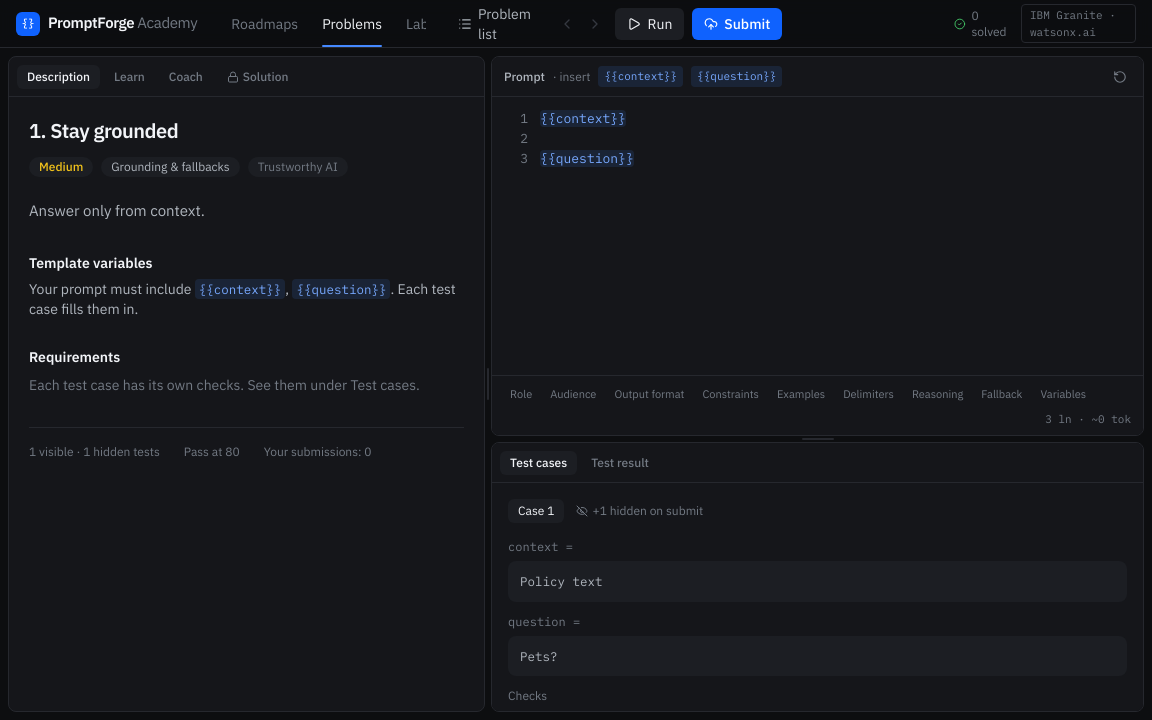
Test: ChallengeWorkspace › submit shows the verdict, records progress, and feeds failures to the coach
Expected: the text box named "Prompt editor" is shown, [492,97,1143,376]
Click the button "Submit" at (737, 24), box [692,8,782,40]
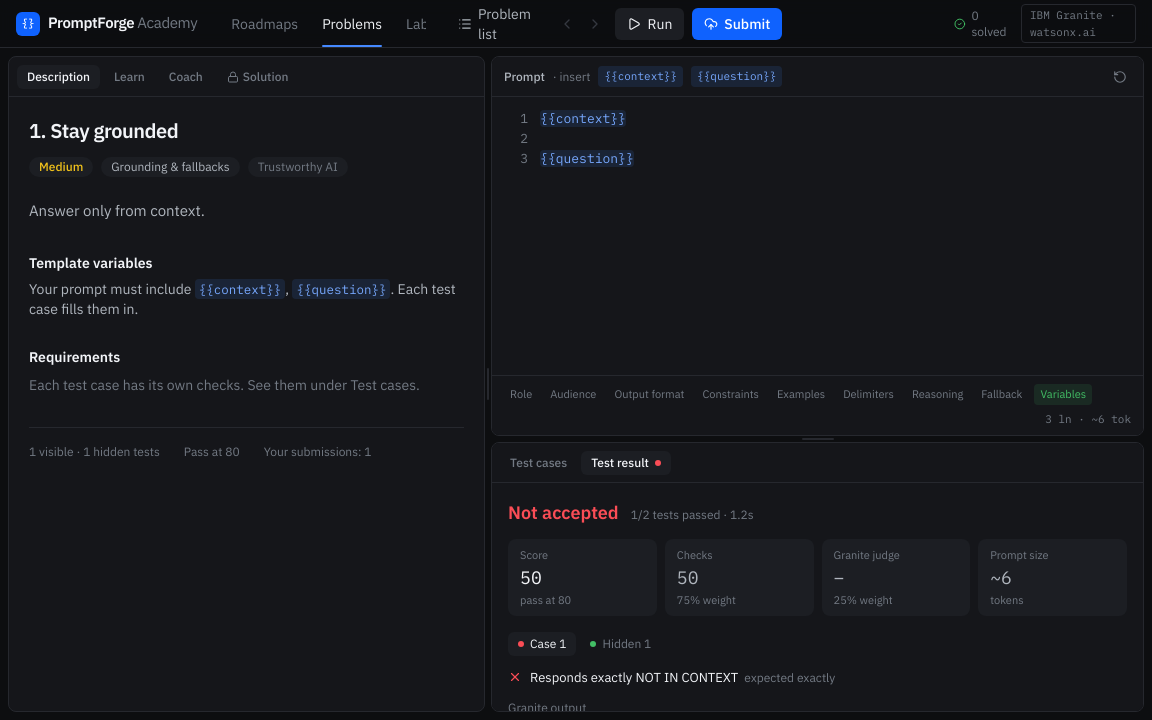
Now the heading "Not accepted" is shown, box [508,500,619,528]
Click the button "coach" at (186, 76), box [159,64,213,88]
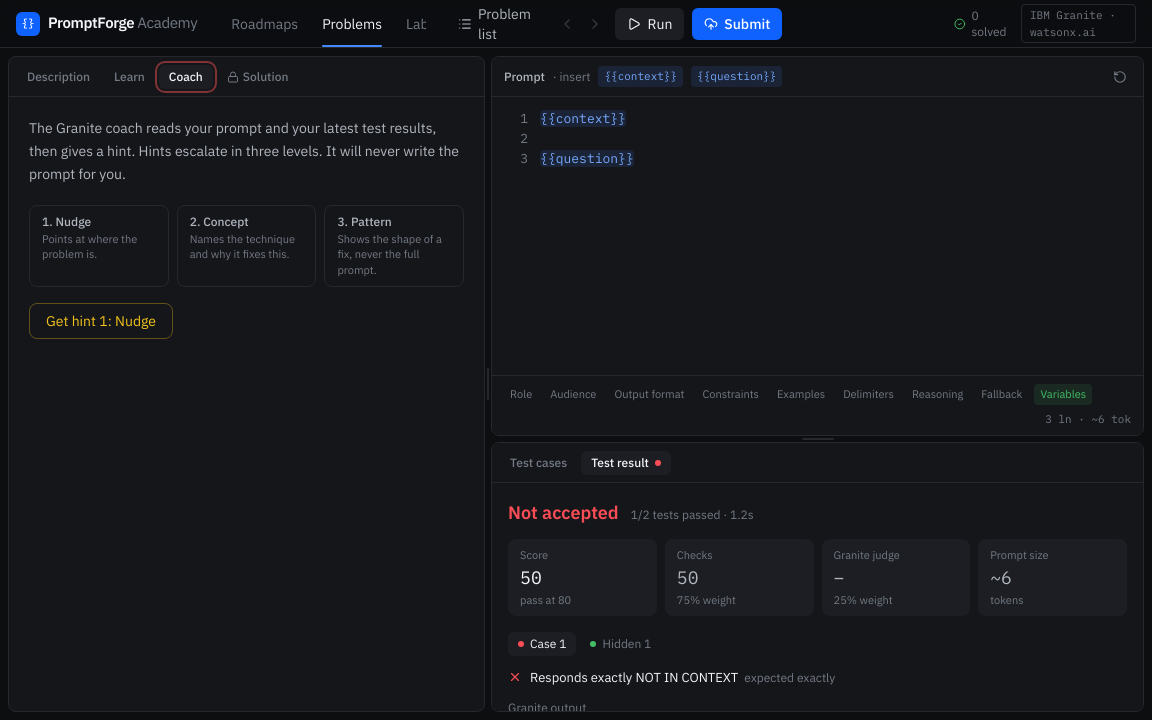
Click the button "Get hint 1: Nudge" at (101, 321), box [29,303,173,339]
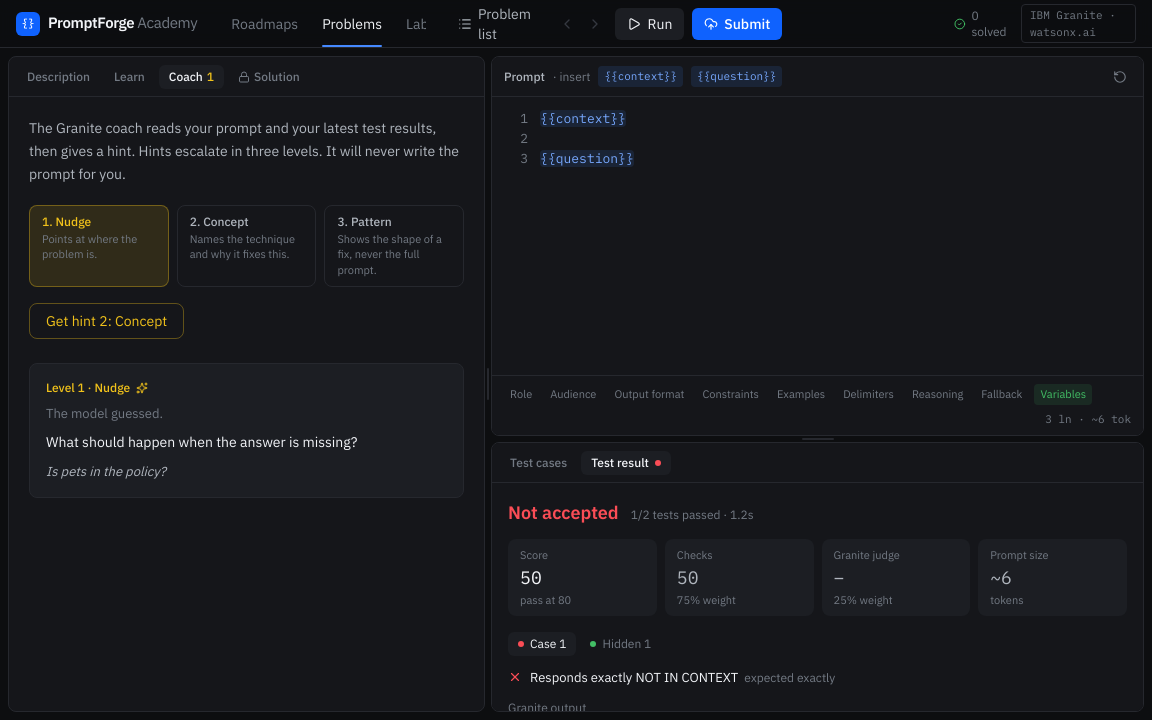
Now the text "The model guessed." is shown, box [46,405,163,422]
